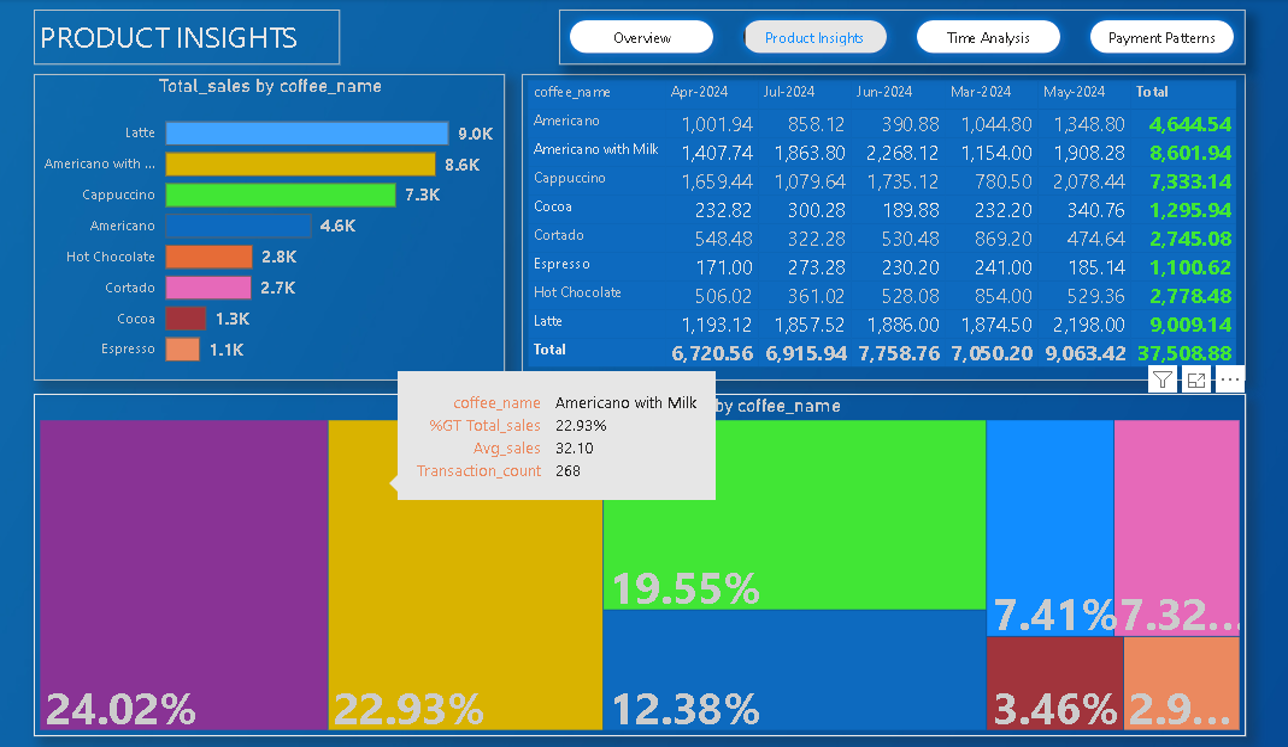

The page's visual inventory and layout, read from the dashboard file:
{"tool":"powerbi","page":{"name":"Product Insights","canvas":[1280,720],"ordinal":1},"visuals":[{"type":"barChart","fields":{"Y":["Measure.Total_sales"],"Category":["Coffee sales.coffee_name"]},"box":[60.8,70.9,439.9,289.1],"z":0},{"type":"pivotTable","fields":{"Columns":["Coffee sales.Month"],"Rows":["Coffee sales.coffee_name"],"Values":["Measure.Total_sales"]},"box":[516.4,70.9,676.1,289.1],"z":1000},{"type":"treemap","title":" Avg_sales and Transaction_count by coffee_name","fields":{"Values":["Measure.Total_sales"],"Group":["Coffee sales.coffee_name"]},"box":[60.8,372.4,1131.8,322.9],"z":2000},{"type":"textbox","box":[60.8,10.1,285.8,51.8],"z":3000},{"type":"pageNavigator","box":[551.2,10.1,641.2,51.8],"z":3001}]}

Visuals, with their boxes in screenshot pixels (x1, y1, x2, y2):
barChart - Measure.Total_sales x Coffee sales.coffee_name: crop(35, 69, 504, 377)
pivotTable - Coffee sales.Month x Coffee sales.coffee_name: crop(521, 69, 1242, 377)
" Avg_sales and Transaction_count by coffee_name" treemap: crop(35, 390, 1242, 735)
textbox: crop(35, 4, 340, 59)
pageNavigator: crop(558, 4, 1242, 59)
